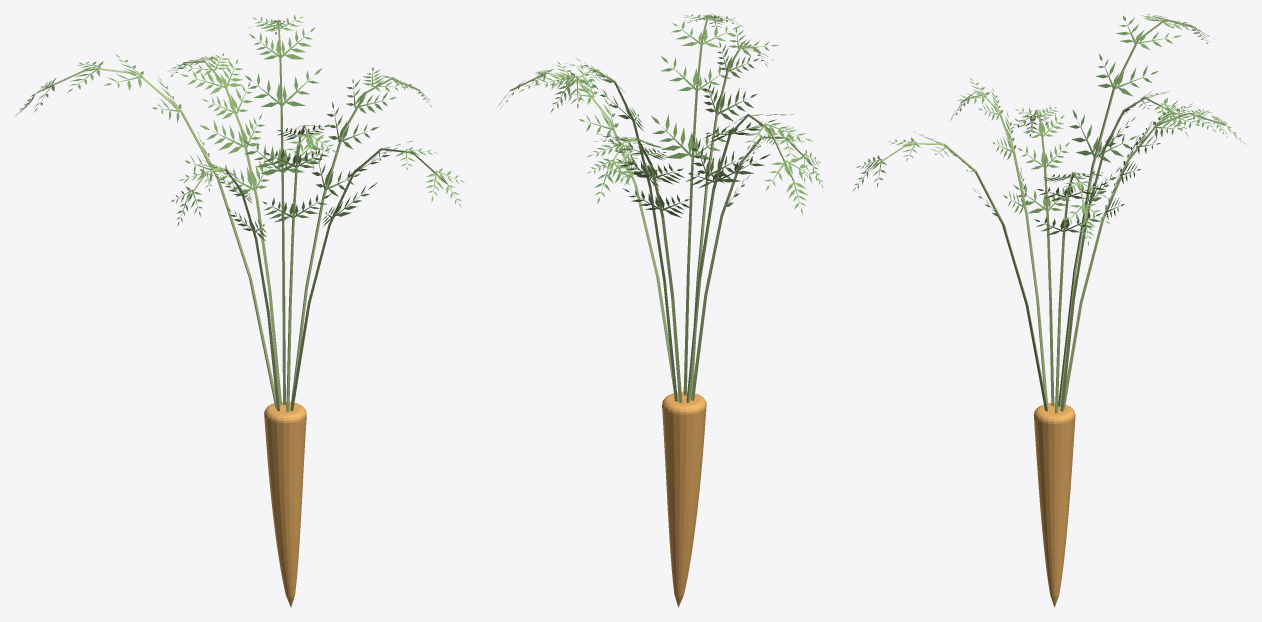
Rendered from carrot_v11.glb.
The picture shows the model from 3 angles, left to right: view 1: azimuth 30°, elevation 25°; view 2: azimuth 150°, elevation 25°; view 3: azimuth 270°, elevation 25°; orthographic projection. The views are drawn at different scales.
Parts seen in each view (by area): view 1: leaves, petioles, root; view 2: leaves, petioles, root; view 3: leaves, petioles, root.
Boxes of the visible parts, x1=… form: leaves: x1=15, y1=14, x2=464, y2=240; petioles: x1=36, y1=20, x2=447, y2=412; root: x1=264, y1=401, x2=306, y2=607; leaves: x1=498, y1=14, x2=823, y2=217; petioles: x1=509, y1=15, x2=812, y2=402; root: x1=662, y1=391, x2=706, y2=607; leaves: x1=852, y1=14, x2=1245, y2=245; petioles: x1=869, y1=19, x2=1225, y2=413; root: x1=1033, y1=402, x2=1075, y2=607.
Bounding box in the file's own units: 0.3205 × 0.4664 × 0.316.
